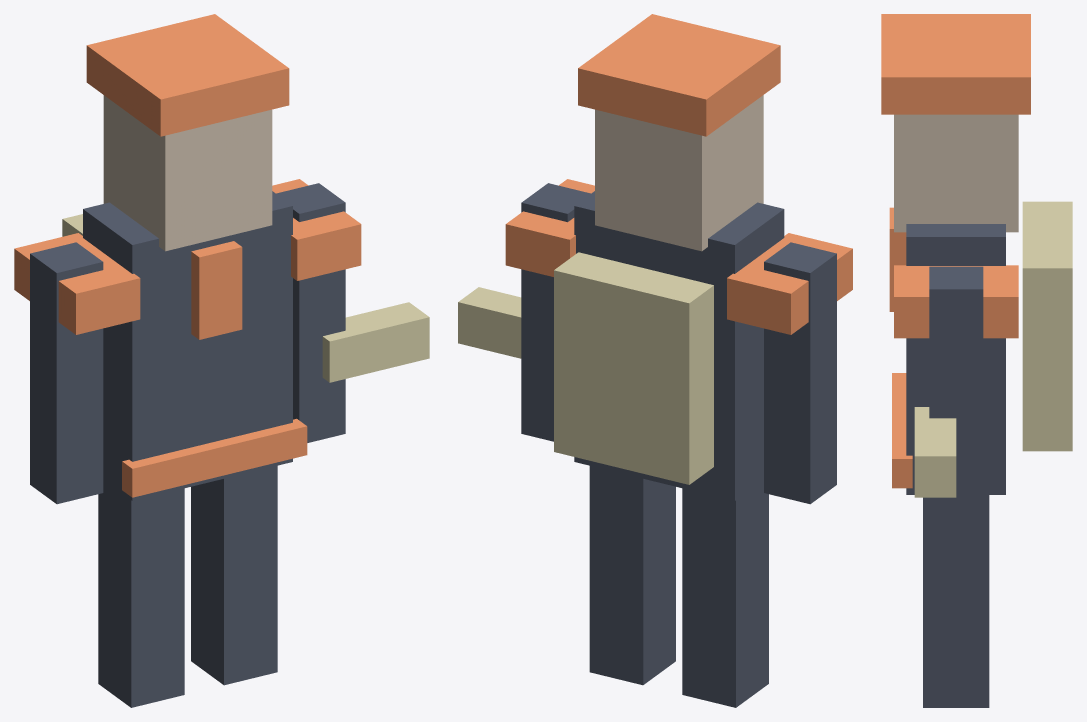
The model's file is 17_dax_mossguard_custodian_from_crater.glb.
The picture shows the model from 3 angles, left to right: view 1: azimuth 30°, elevation 25°; view 2: azimuth 150°, elevation 25°; view 3: azimuth 270°, elevation 25°; orthographic projection.
Parts seen in each view (by area): view 1: Dax Mossguard, Custodian from Crater; view 2: Dax Mossguard, Custodian from Crater; view 3: Dax Mossguard, Custodian from Crater.
Part boxes in pixels (left/top/right/bottom): Dax Mossguard, Custodian from Crater: left=14, top=14, right=429, bottom=707; Dax Mossguard, Custodian from Crater: left=458, top=14, right=852, bottom=707; Dax Mossguard, Custodian from Crater: left=881, top=14, right=1072, bottom=707.
Size of the model in its own units: 1.04 by 1.68 by 0.4648.
